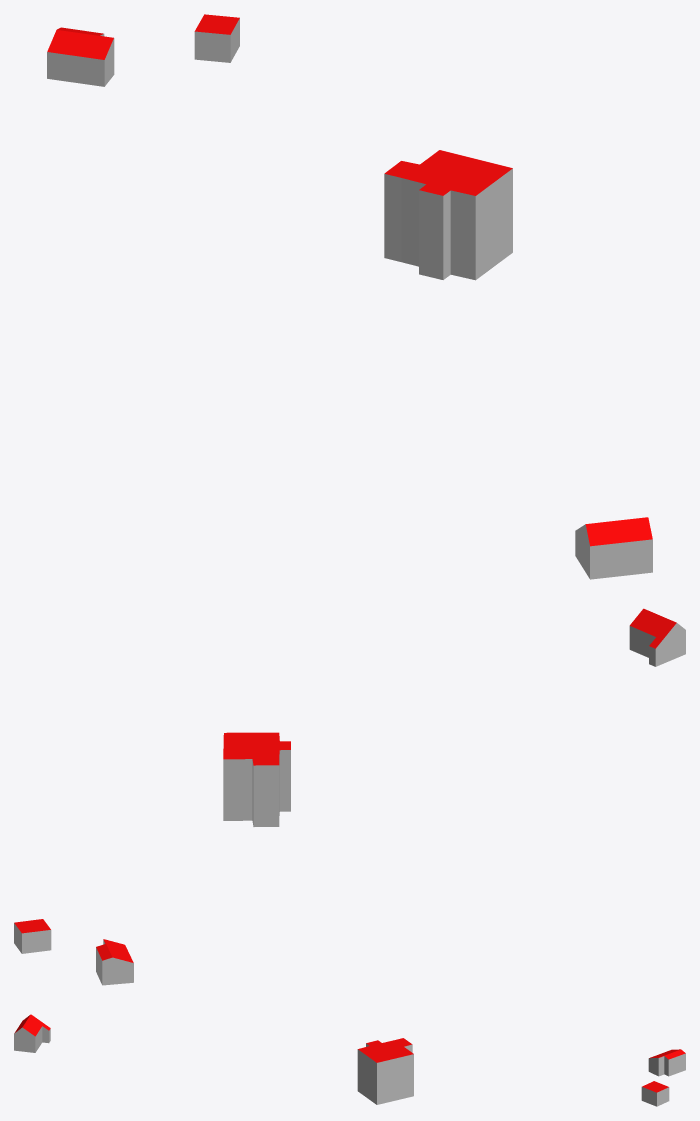
3 views of the same model, one above another, from view 1: azimuth 30°, elevation 25°; view 2: azimuth 150°, elevation 25°; view 3: azimuth 270°, elevation 25° (orthographic). The views are drawn at different scales.
Size of the model in its own units: 31.77 by 9 by 130.
